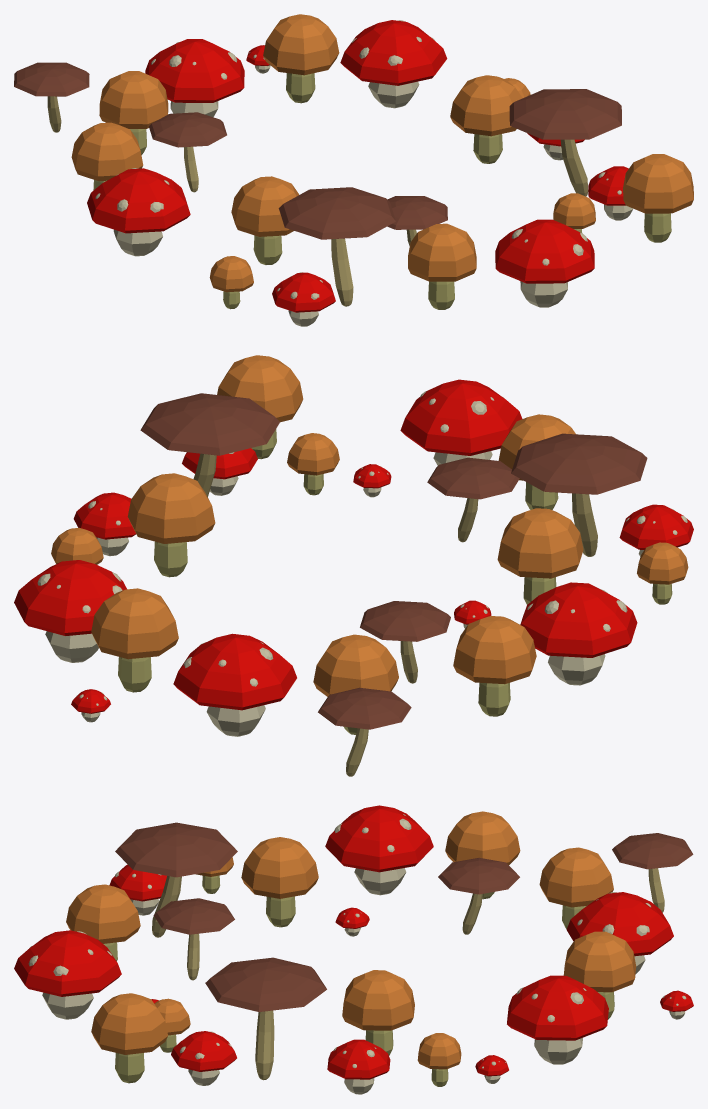
Rendered from MushroomRing.fbx.
3 views of the same model, one above another, from view 1: azimuth 30°, elevation 25°; view 2: azimuth 150°, elevation 25°; view 3: azimuth 270°, elevation 25° (orthographic). The views are drawn at different scales.
Visible parts, largest first — view 1: Sphere.002; view 2: Sphere.002; view 3: Sphere.002.
Part boxes in pixels (x1,y1,x2,y2): Sphere.002: (14,14,693,326); Sphere.002: (14,355,693,776); Sphere.002: (14,805,693,1094).
Size of the model in its own units: 1076 by 221 by 1293.
